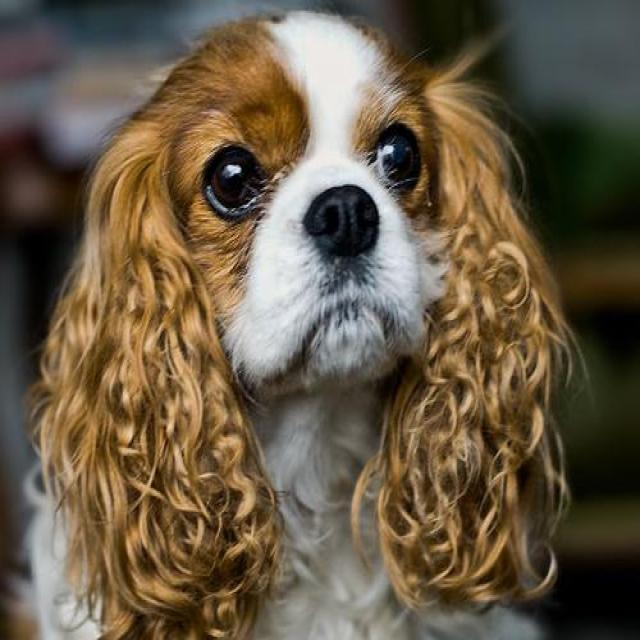blenheim_spaniel: (35, 1, 585, 638)
